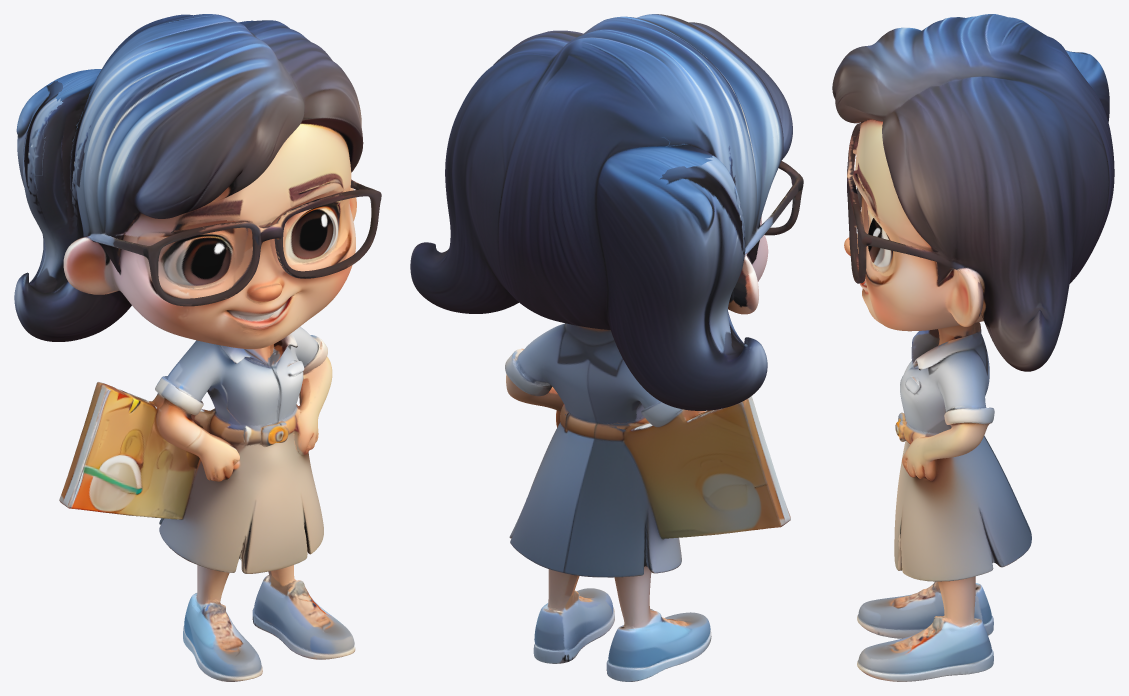
Rendered from female-avatar2.glb.
3 renders of one model, left to right at view 1: azimuth 30°, elevation 25°; view 2: azimuth 150°, elevation 25°; view 3: azimuth 270°, elevation 25°, orthographic. The views are drawn at different scales.
Parts seen in each view (by area): view 1: model; view 2: model; view 3: model.
Part boxes in pixels (x1=…): model: x1=14, y1=14, x2=381, y2=681; model: x1=410, y1=14, x2=803, y2=681; model: x1=832, y1=14, x2=1114, y2=681.
Bounding box in the file's own units: 1.09 × 1.9 × 0.8062.
Materials: 1 (1 with a texture image).
